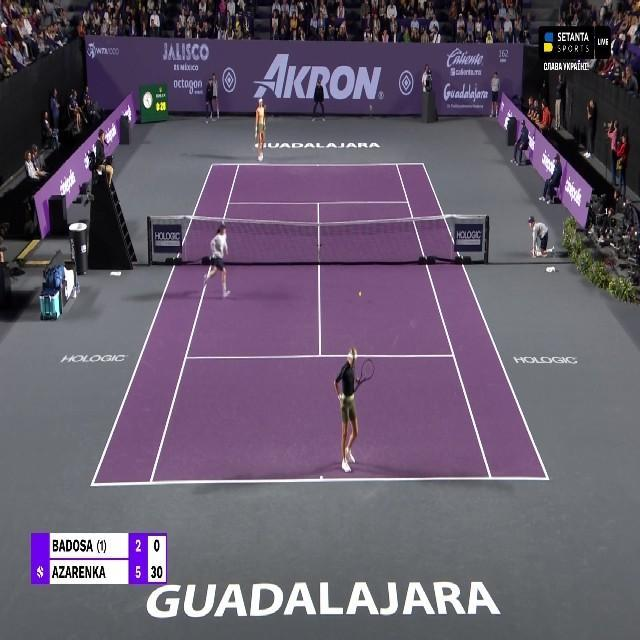left side: (397, 164, 548, 479), (91, 164, 239, 485)
player: (332, 345, 364, 473), (253, 96, 269, 161)
